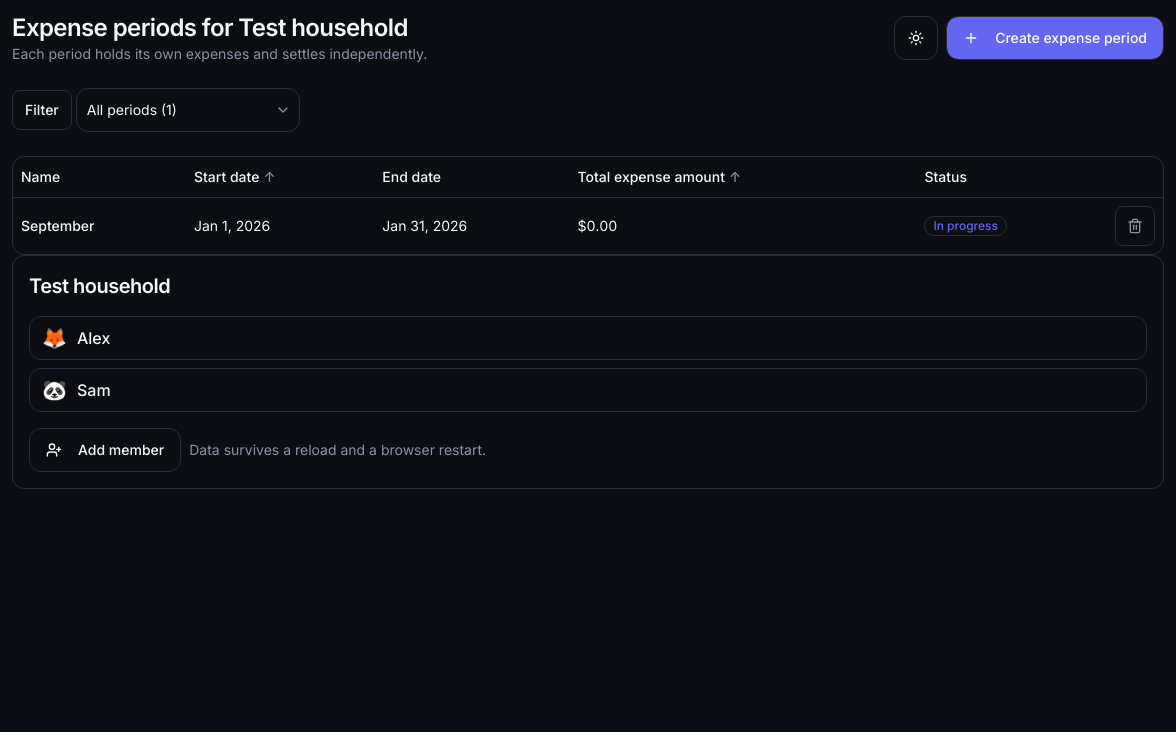
Scenario: checklist: expenses › renames a member inline from the home member list
This screenshot has width=1176, height=732.
Click the button with aria-label "rename alex". click: [94, 338]
box: [29,316,1147,360]
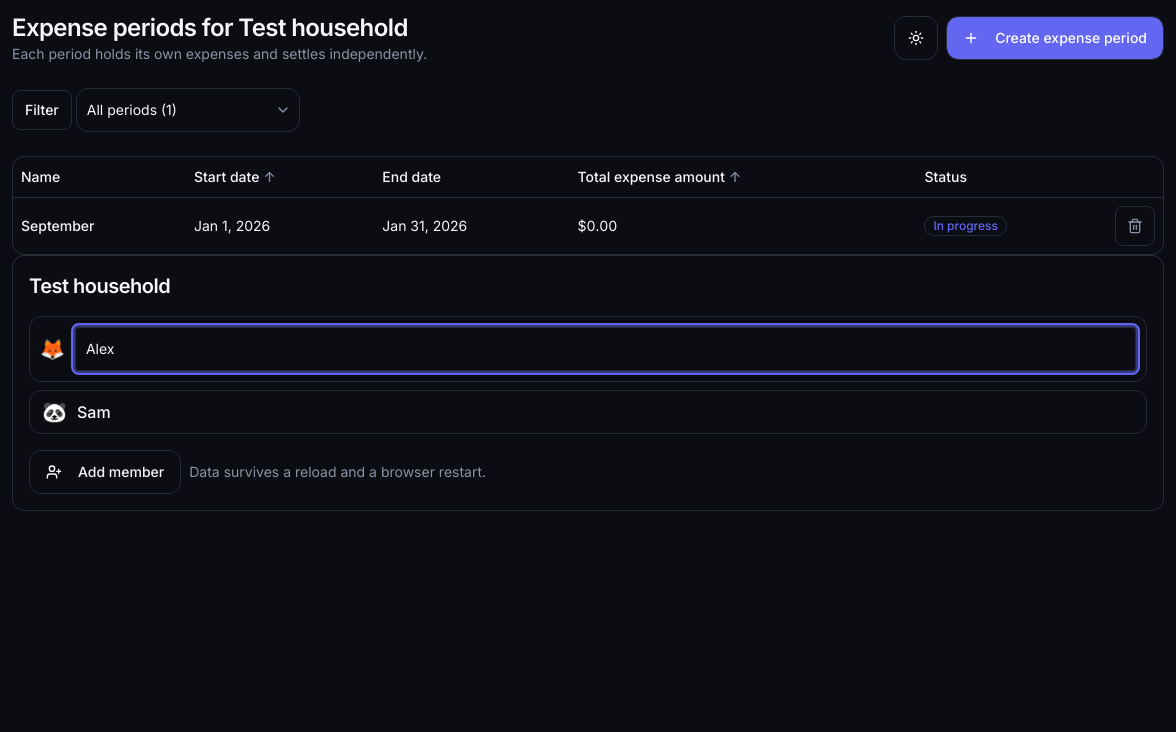
Replace the text in the field named "new name for alex" with "Alexandra". click: [606, 348]
box: [75,326,1136,370]
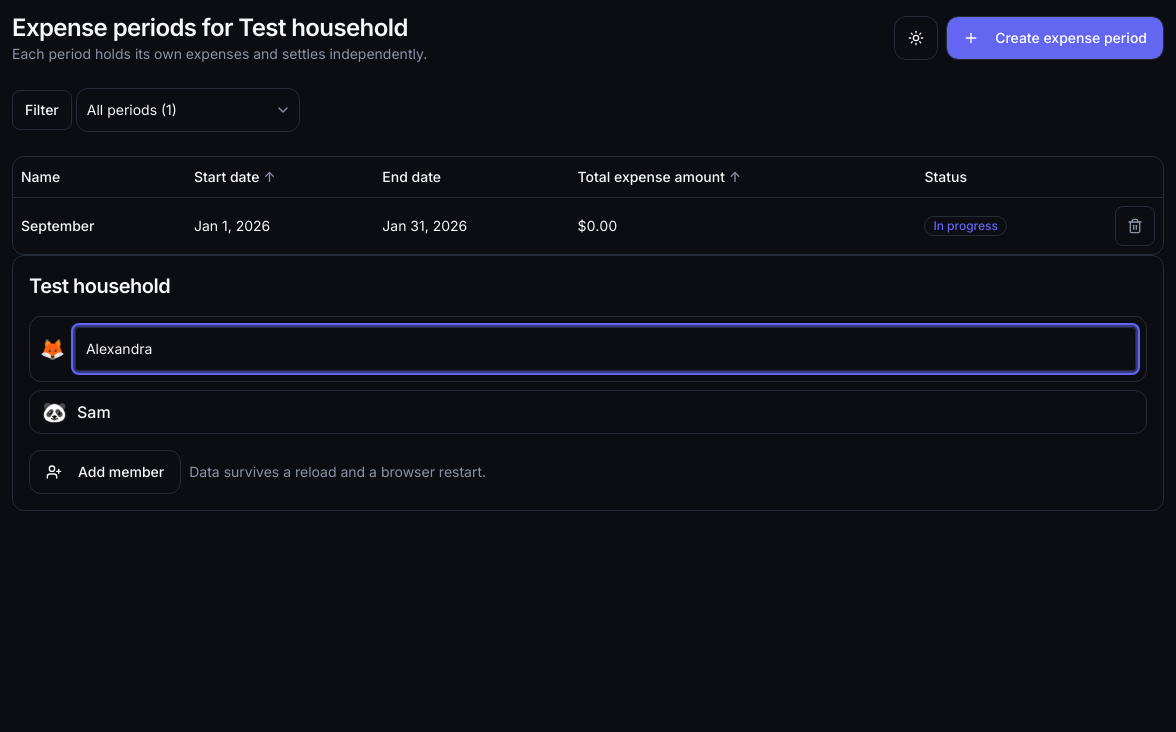
Press Enter
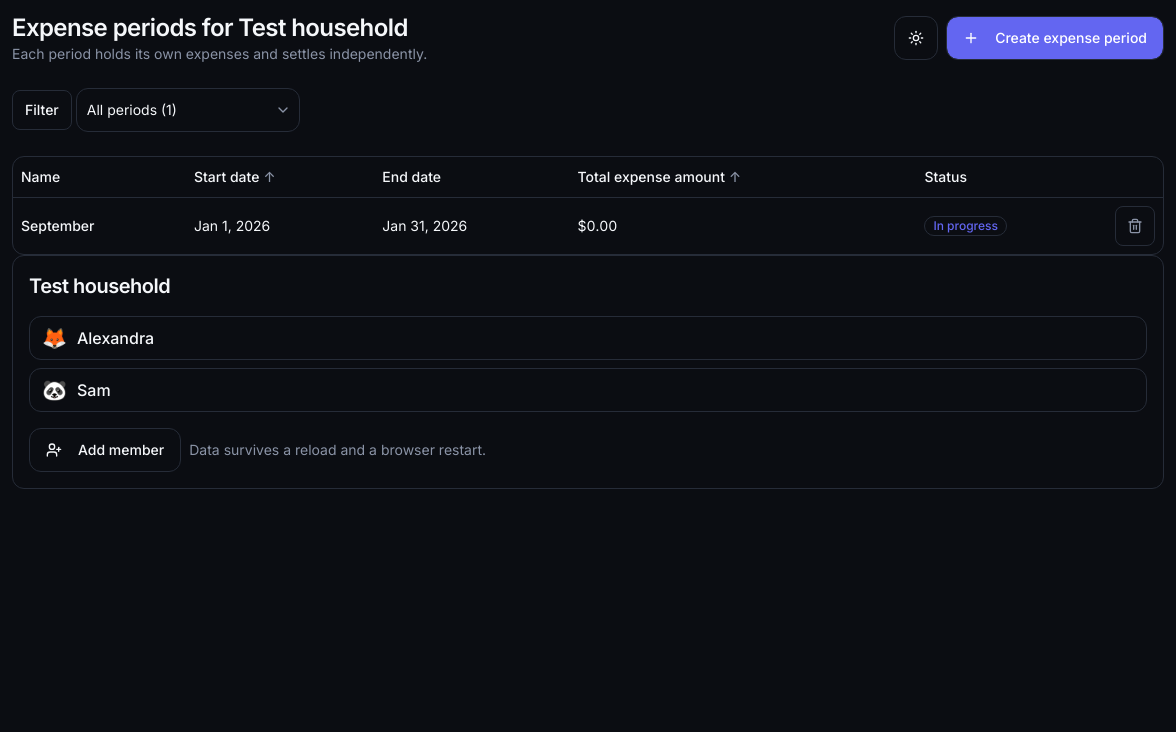
Expected: the button with aria-label "rename alexandra" is shown, [29,316,1147,360]
